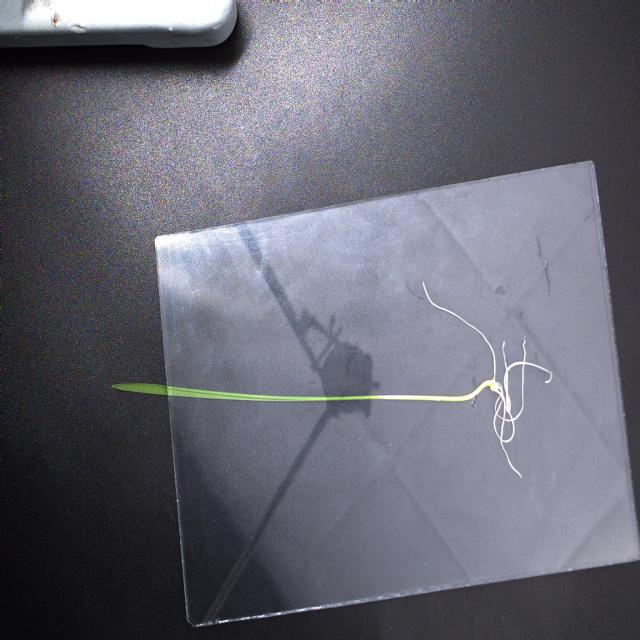leaf: (109, 377, 335, 404)
root: (418, 281, 556, 479)
stem: (334, 379, 489, 407)
